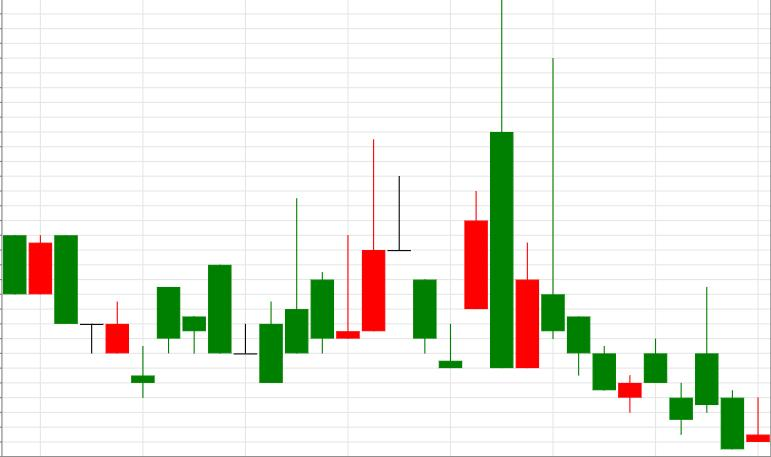evening_star_fall: (259, 139, 436, 383)
morning_star_rise: (2, 235, 180, 398)
